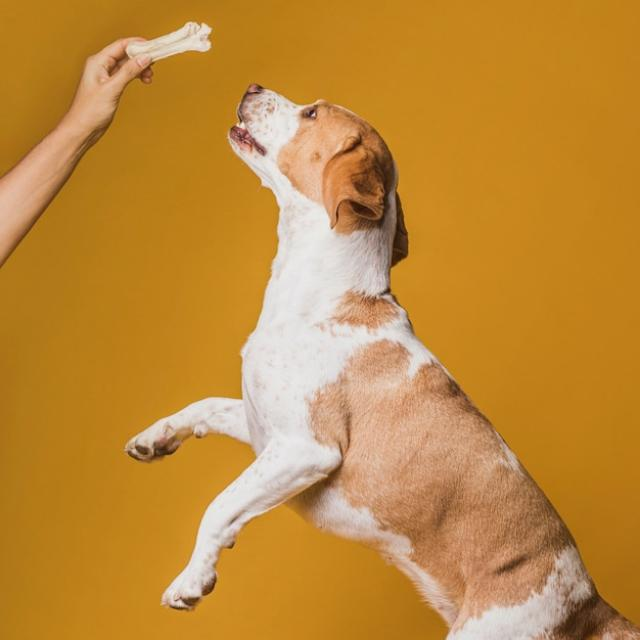Dog: (120, 82, 640, 640)
